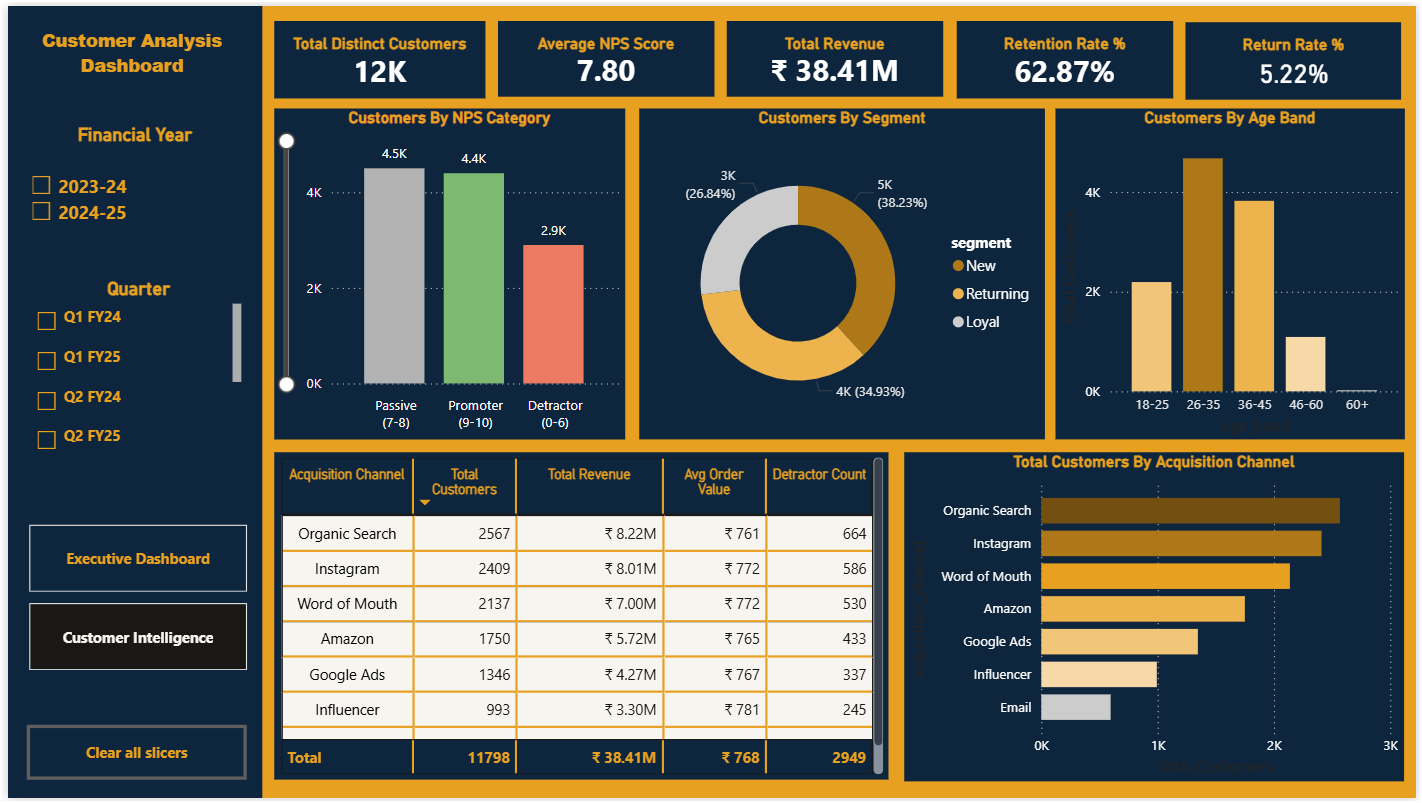

The page's visual inventory and layout, read from the dashboard file:
{"tool":"powerbi","page":{"name":"Customer Intelligence","canvas":[1280,720],"ordinal":1},"visuals":[{"type":"shape","box":[0,0,231.2,720],"z":0},{"type":"group","id":"g1","title":"Group 1","box":[242.5,13.8,816.5,70.5],"z":0,"group":"g2"},{"type":"card","title":"Total Distinct Customers","fields":{"Values":["Measure_Table.Total Customers"]},"box":[242.5,13.8,191.9,70.3],"z":0,"group":"g1"},{"type":"card","title":"Average NPS Score","fields":{"Values":["Measure_Table.Avg NPS Score"]},"box":[446.1,14,196.5,69],"z":1000,"group":"g1"},{"type":"donutChart","title":"Customers By Segment","fields":{"Category":["dim_customers.segment"],"Y":["Measure_Table.Total Customers"]},"box":[573.6,93.1,369,301.1],"z":1000},{"type":"card","title":"Total Revenue","fields":{"Values":["Measure_Table.Total Revenue"]},"box":[654.3,14,196.5,69],"z":2000,"group":"g1"},{"type":"clusteredColumnChart","title":"Customers By Age Band","fields":{"Category":["dim_customers.age_band"],"Y":["Measure_Table.Total Customers"]},"box":[951.7,93.1,317.2,301.1],"z":2000},{"type":"clusteredBarChart","title":"Total Customers By Acquisition Channel","fields":{"Y":["Measure_Table.Total Customers"],"Category":["dim_customers.acquisition_channel"]},"box":[814.9,405.7,454,298.9],"z":3000},{"type":"card","title":"Retention Rate %","fields":{"Values":["Measure_Table.Retention Rate %"]},"box":[862.5,14,196.5,70.3],"z":4000,"group":"g1"},{"type":"card","title":"Return Rate %","fields":{"Values":["Measure_Table.Return Rate %"]},"box":[1070.6,15.4,196.2,70],"z":4000,"group":"g2"},{"type":"tableEx","fields":{"Values":["dim_customers.acquisition_channel","Measure_Table.Total Customers","Measure_Table.Total Revenue","Measure_Table.Avg Order Value","Measure_Table.Detractor Count"]},"box":[242.5,405.7,558.6,297.7],"z":4000},{"type":"group","id":"g2","title":"Group 2","box":[242.5,13.8,1024.4,71.6],"z":5000},{"type":"listSlicer","title":"Financial Year","fields":{"Values":["fact_orders.fy"]},"box":[16.2,106.2,198.8,116.2],"z":6000},{"type":"listSlicer","title":"Quarter","fields":{"Values":["fact_orders.order_quarter"]},"box":[18.8,246.2,198.8,170],"z":7000},{"type":"pageNavigator","box":[18.8,471.2,198.8,132.5],"z":8000},{"type":"actionButton","box":[17.5,653.8,200,50],"z":9000},{"type":"textbox","box":[10,15,205,67.5],"z":10000},{"type":"columnChart","title":"Customers By NPS Category","fields":{"Category":["dim_customers.nps_category"],"Y":["Measure_Table.Total Customers"]},"box":[242.5,93.1,318.4,301.1],"z":11000}]}

Visuals, with their boxes in screenshot pixels (x1, y1, x2, y2), scaled from the page's 1280x720 canvas onto the 1422x803 screenshot:
shape: select_region(0, 0, 257, 802)
"Group 1" group: select_region(269, 15, 1176, 94)
"Total Distinct Customers" card: select_region(269, 15, 483, 94)
"Average NPS Score" card: select_region(496, 16, 714, 93)
"Customers By Segment" donutChart: select_region(637, 104, 1047, 440)
"Total Revenue" card: select_region(727, 16, 945, 93)
"Customers By Age Band" clusteredColumnChart: select_region(1057, 104, 1410, 440)
"Total Customers By Acquisition Channel" clusteredBarChart: select_region(905, 452, 1410, 786)
"Retention Rate %" card: select_region(958, 16, 1176, 94)
"Return Rate %" card: select_region(1189, 17, 1407, 95)
tableEx - dim_customers.acquisition_channel x Measure_Table.Total Customers: select_region(269, 452, 890, 784)
"Group 2" group: select_region(269, 15, 1407, 95)
"Financial Year" listSlicer: select_region(18, 118, 239, 248)
"Quarter" listSlicer: select_region(21, 275, 242, 464)
pageNavigator: select_region(21, 526, 242, 673)
actionButton: select_region(19, 729, 242, 785)
textbox: select_region(11, 17, 239, 92)
"Customers By NPS Category" columnChart: select_region(269, 104, 623, 440)
